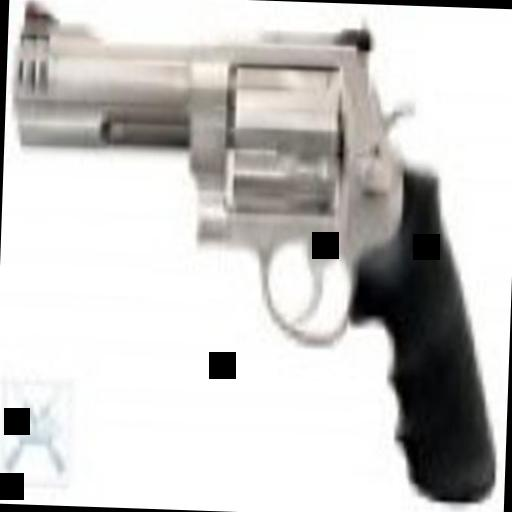Handgun: (0, 0, 506, 510)
